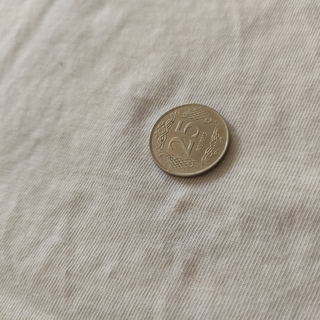25KURUS: (147, 101, 231, 178)
